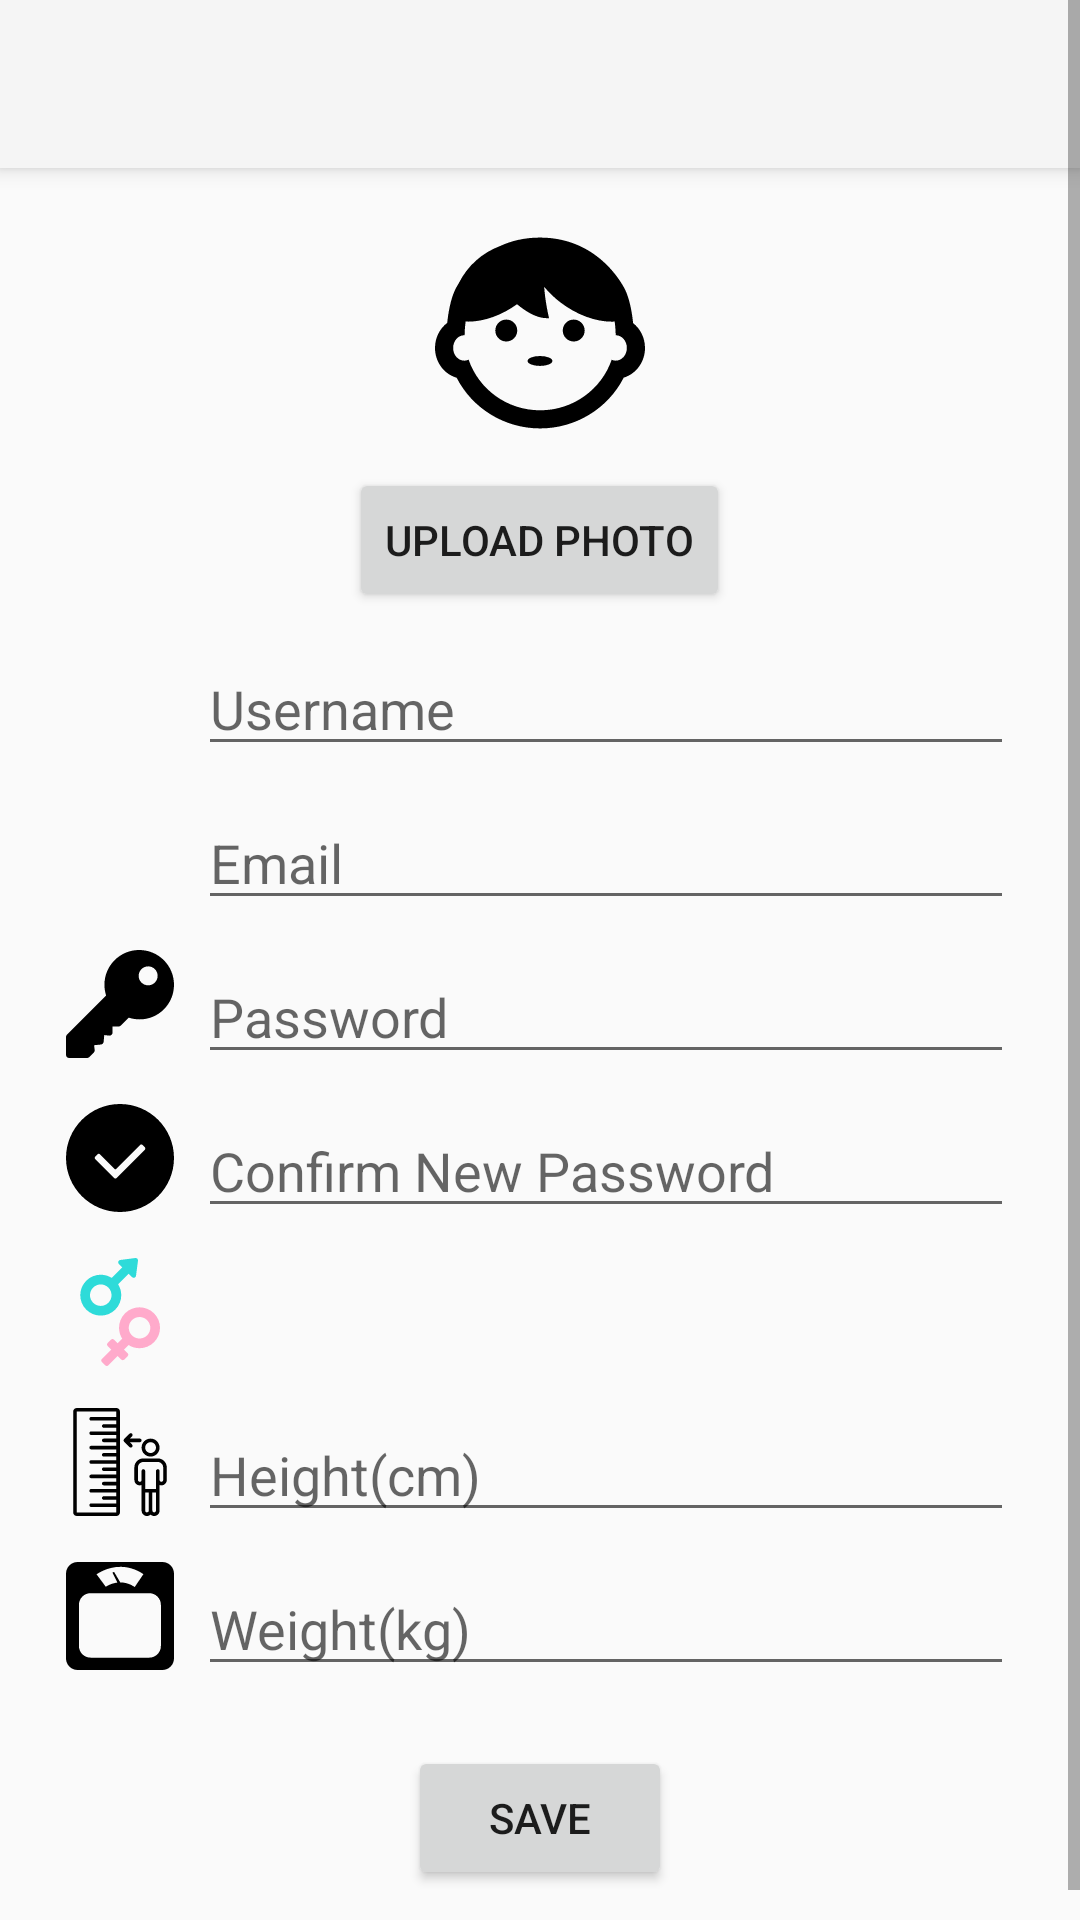

Icon click points for this 1080×1920 phone screenshot, format (x,y):
body weighing scale tool: (120,1616)
child face: (540,333)
key: (120,1004)
sex: (120,1312)
